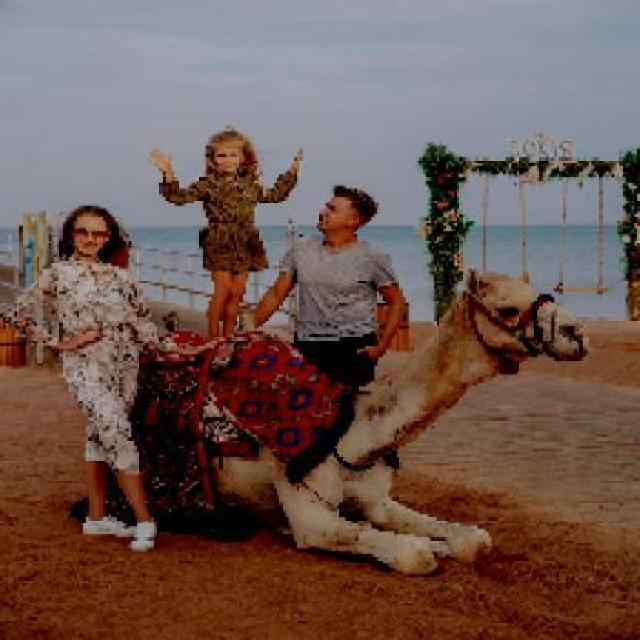child: (147, 127, 307, 342)
